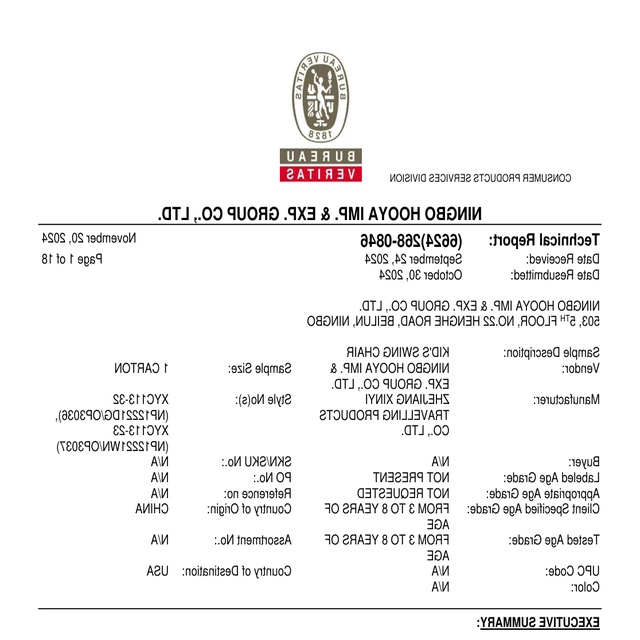bureau_veritas: (278, 53, 365, 185)
